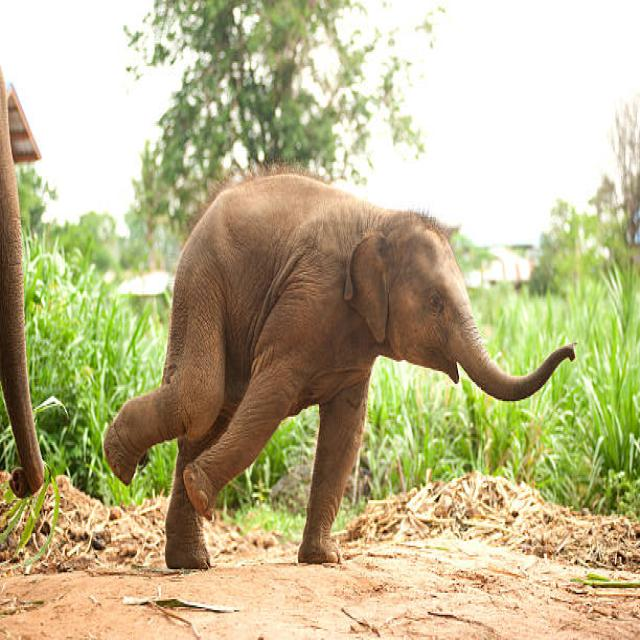Elephant: (100, 163, 574, 563)
